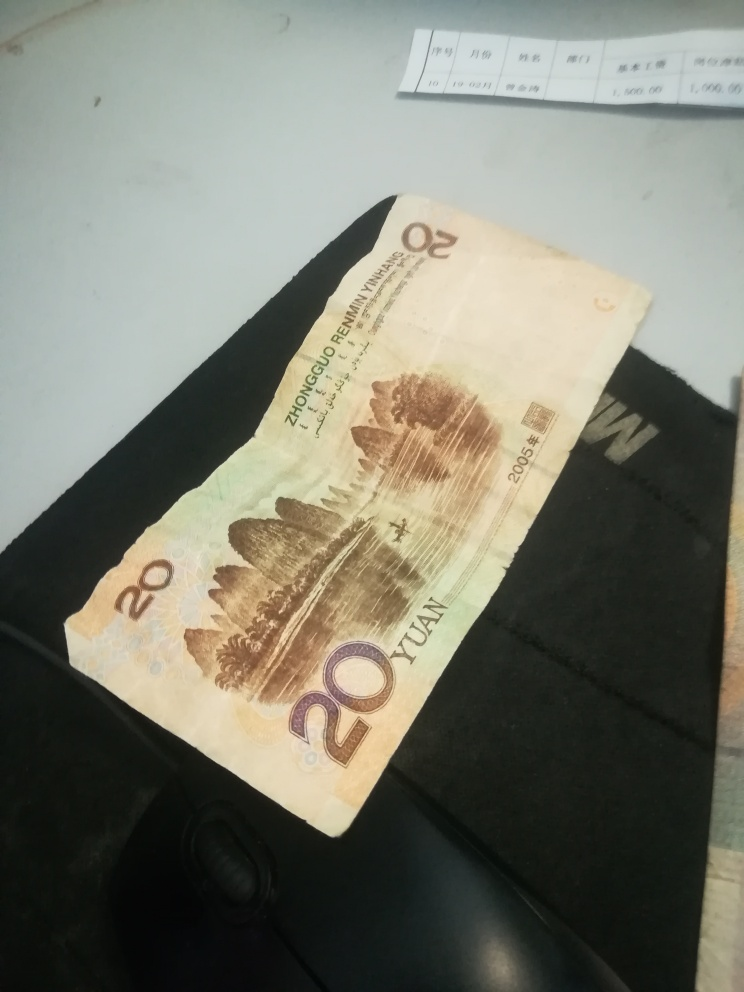rmb: (57, 190, 663, 851)
